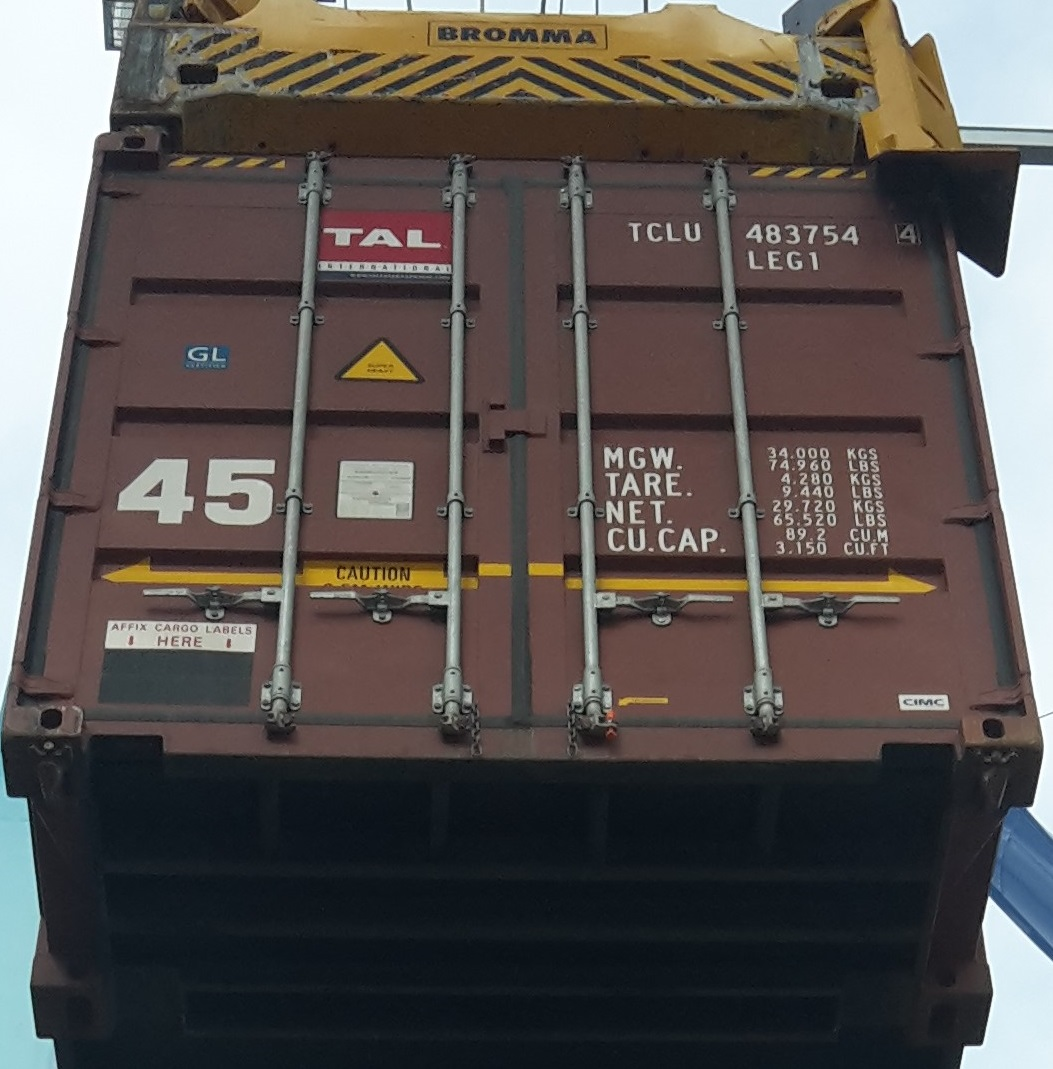container_door: (6, 169, 1029, 741)
